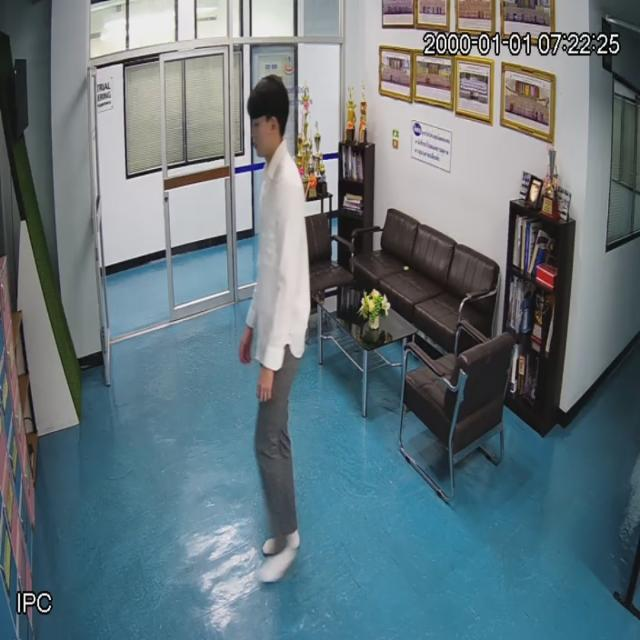normal: (239, 74, 311, 574)
